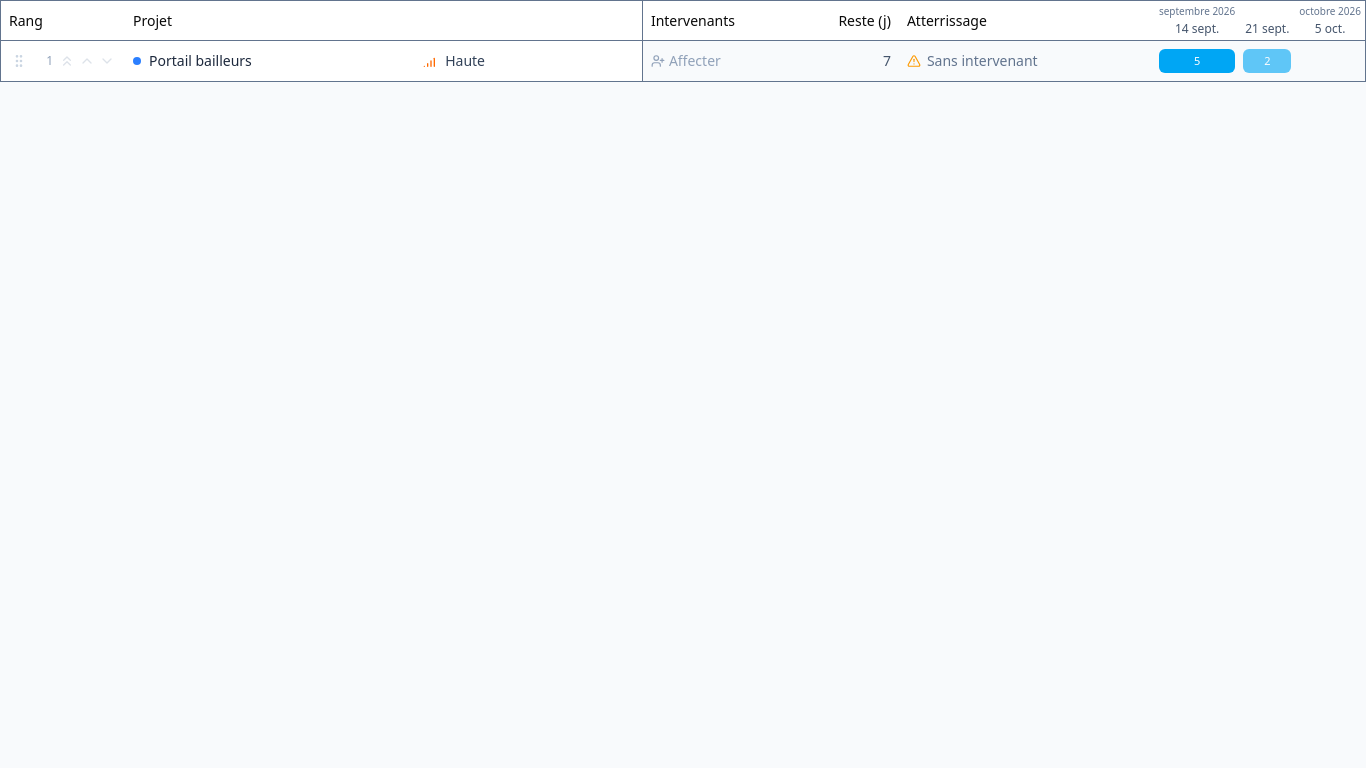
Test: WorkloadTimeline › offers the whole team on a mission nobody is on yet
Check: the text "Affecter" is shown, box [651, 51, 721, 71]
Click the button with aria-label "Changer les intervenants de Portail bailleurs". click: click(686, 61)
box: [647, 49, 725, 73]
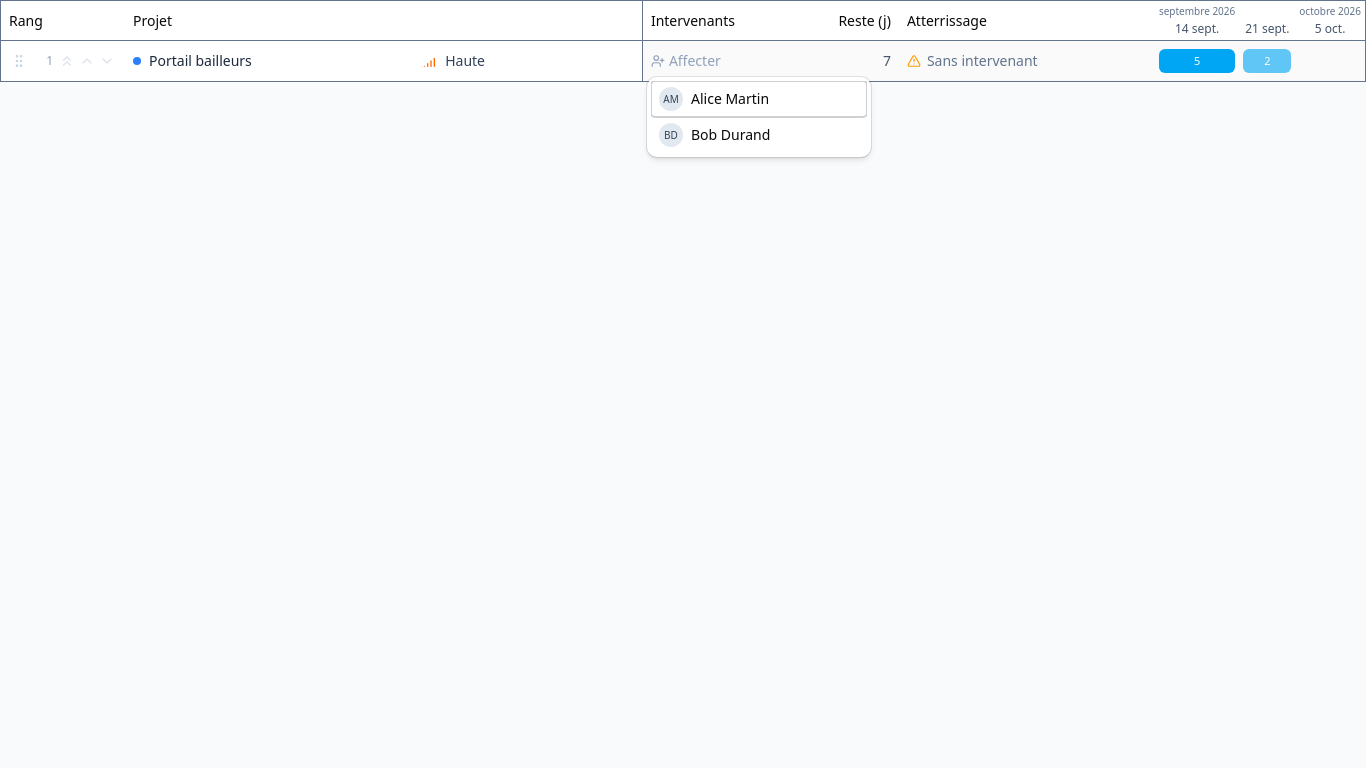
Check: the button "AM Alice Martin" is shown, box [651, 81, 867, 117]
Check: the button "BD Bob Durand" is shown, box [651, 117, 867, 153]
